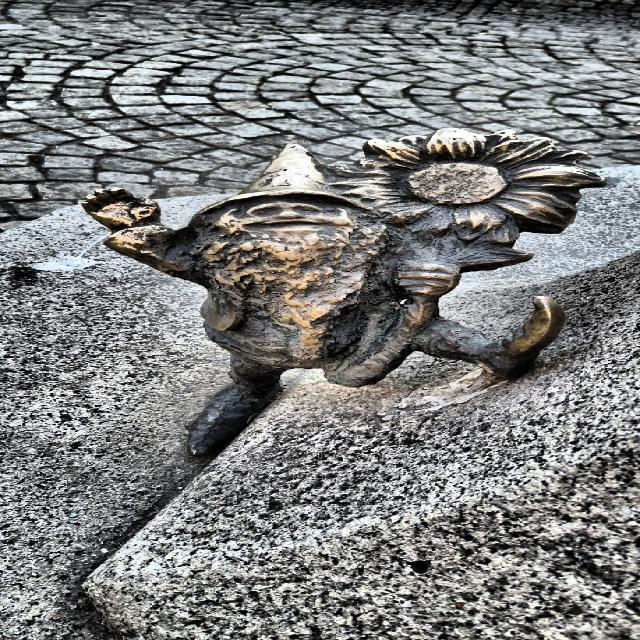Zyczliwek: (83, 129, 606, 455)
